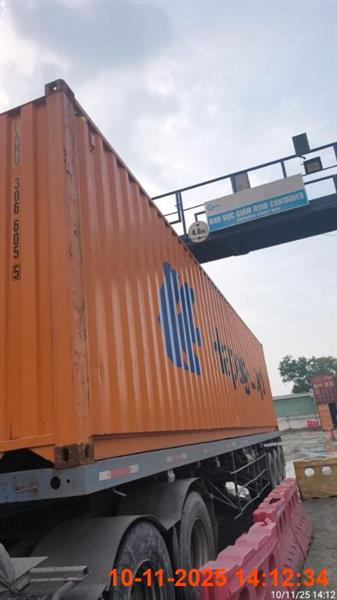bent: (0, 78, 287, 598)
